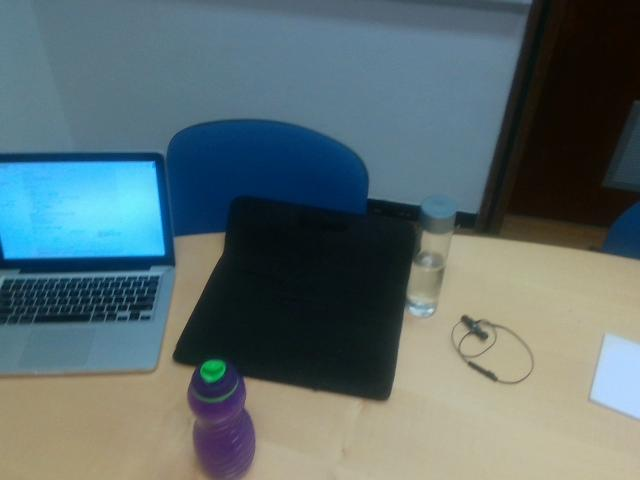bottle: (187, 355, 258, 480)
